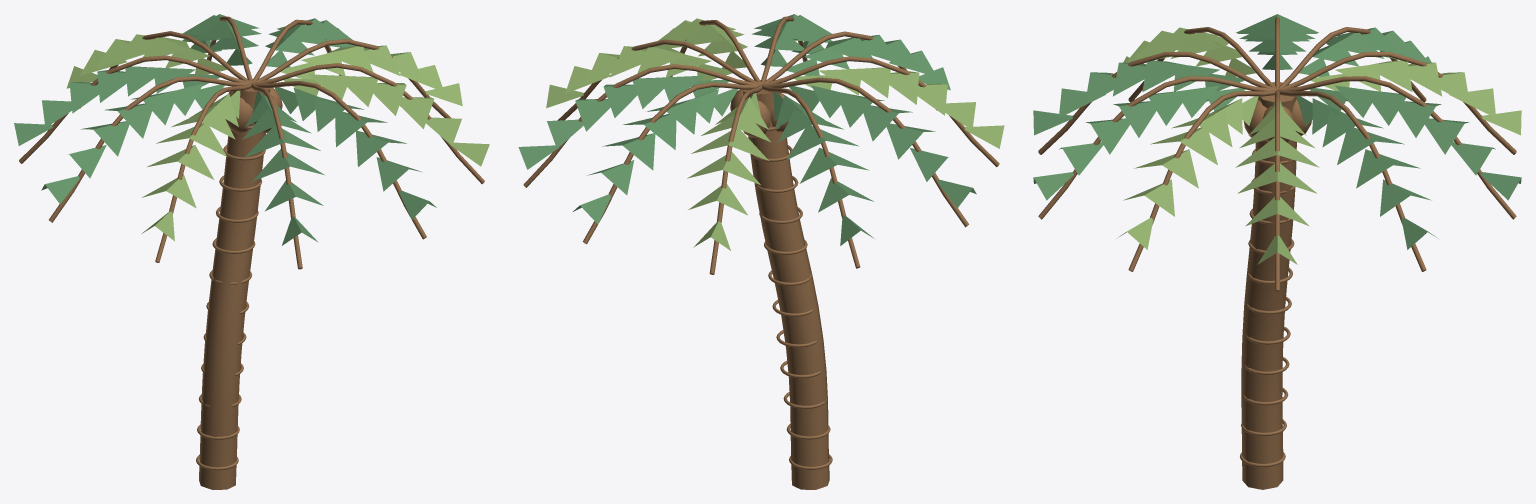
Rendered from palm.glb.
3 renders of one model, left to right at view 1: azimuth 30°, elevation 25°; view 2: azimuth 150°, elevation 25°; view 3: azimuth 270°, elevation 25°, orthographic. The views are drawn at different scales.
Parts seen in each view (by area): view 1: palm; view 2: palm; view 3: palm.
Boxes of the visible parts, x1,y1,x2,y2 form: palm: (14, 14, 489, 489); palm: (518, 14, 1004, 489); palm: (1033, 14, 1521, 489).
Size of the model in its own units: 3.5 by 3.3 by 3.32.
